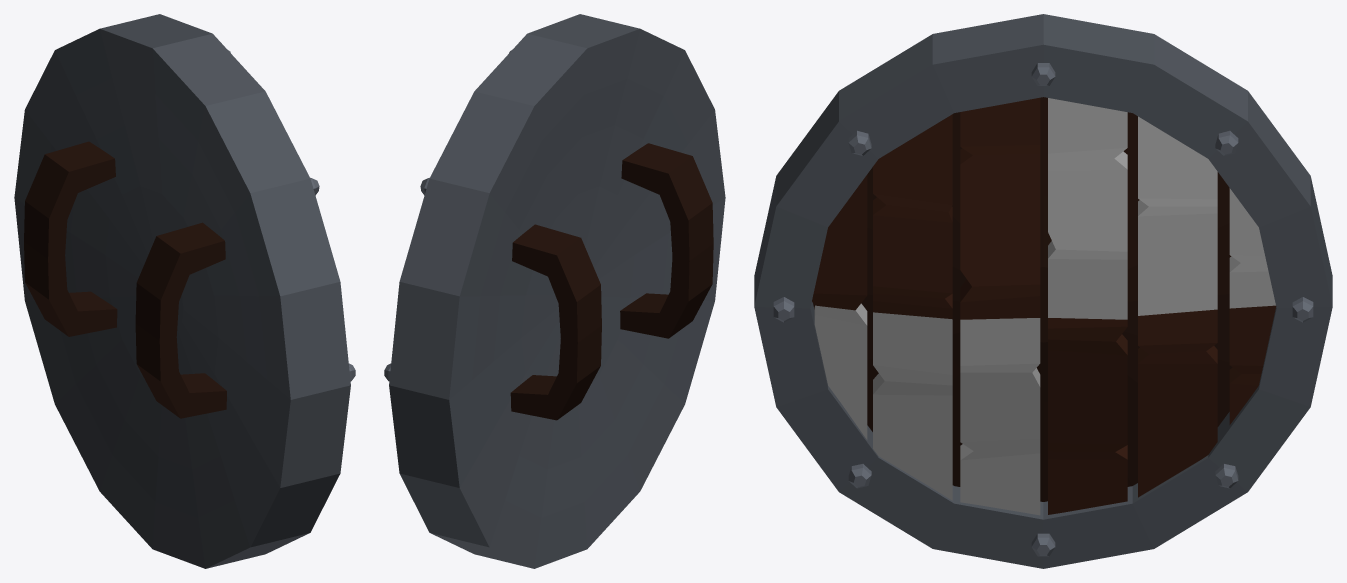
Rendered from Shield_Round_2.glb.
3 views of the same model, side by side, from view 1: azimuth 30°, elevation 25°; view 2: azimuth 150°, elevation 25°; view 3: azimuth 270°, elevation 25° (orthographic). The views are drawn at different scales.
Parts seen in each view (by area): view 1: Shield_Round_2; view 2: Shield_Round_2; view 3: Shield_Round_2.
Part boxes in pixels (left/top/right/bottom): Shield_Round_2: left=14, top=14, right=355, bottom=568; Shield_Round_2: left=384, top=14, right=725, bottom=568; Shield_Round_2: left=754, top=14, right=1332, bottom=568.
Bounding box in the file's own units: 0.1811 × 0.6 × 0.6.
